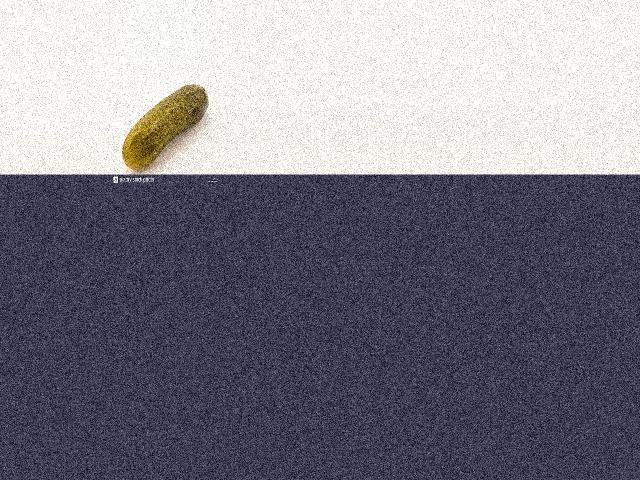cucumber: (122, 85, 208, 170)
